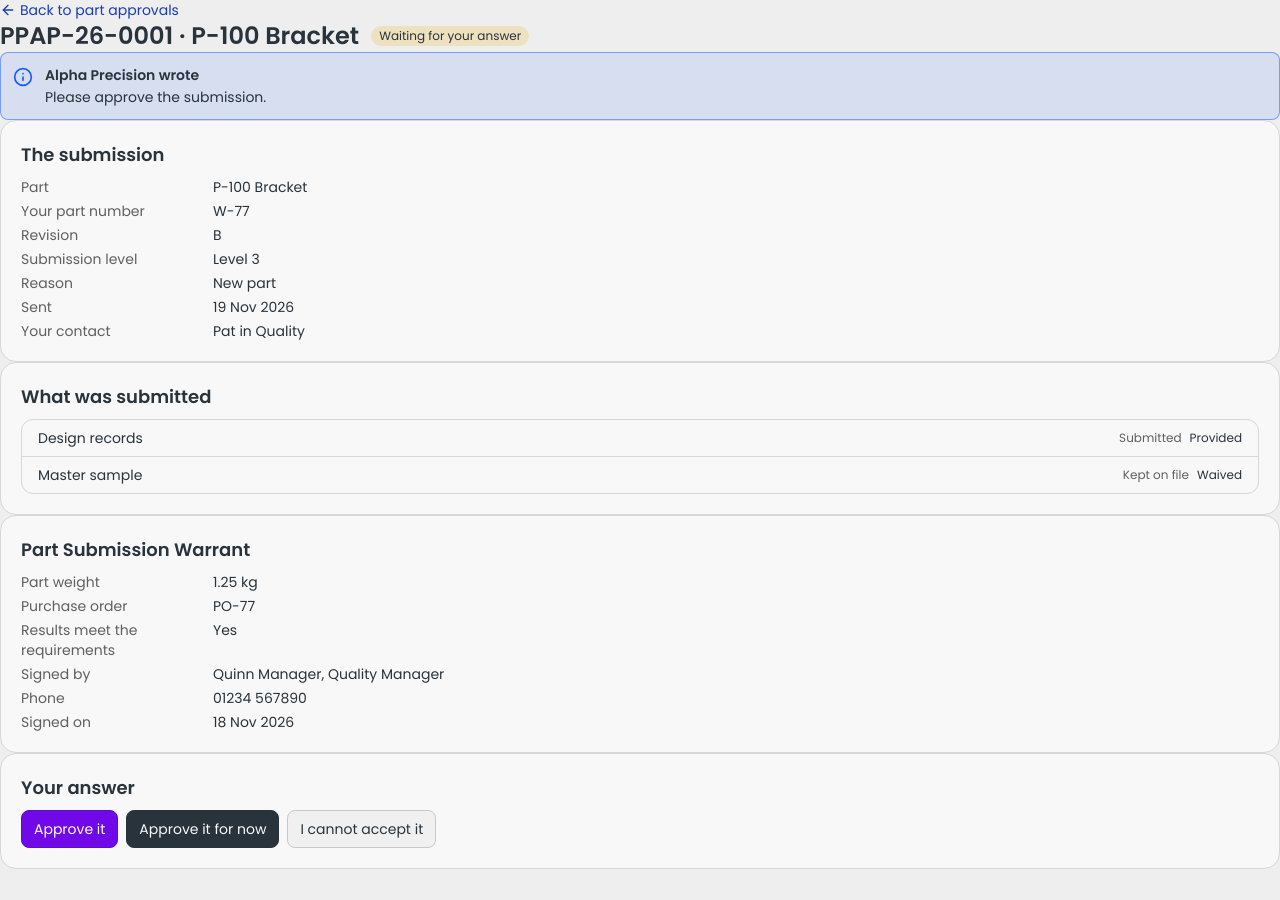
Test case: a customer answering a part approval submission in the portal › will not send a rejection without saying what cannot be accepted
The image size is (1280, 900).
Later steps or results of the test are not shown.
What coordinates should you click on to do the following:
click the button "I cannot accept it"
I would click on:
 (362, 829)
Its box is [287, 810, 436, 848].
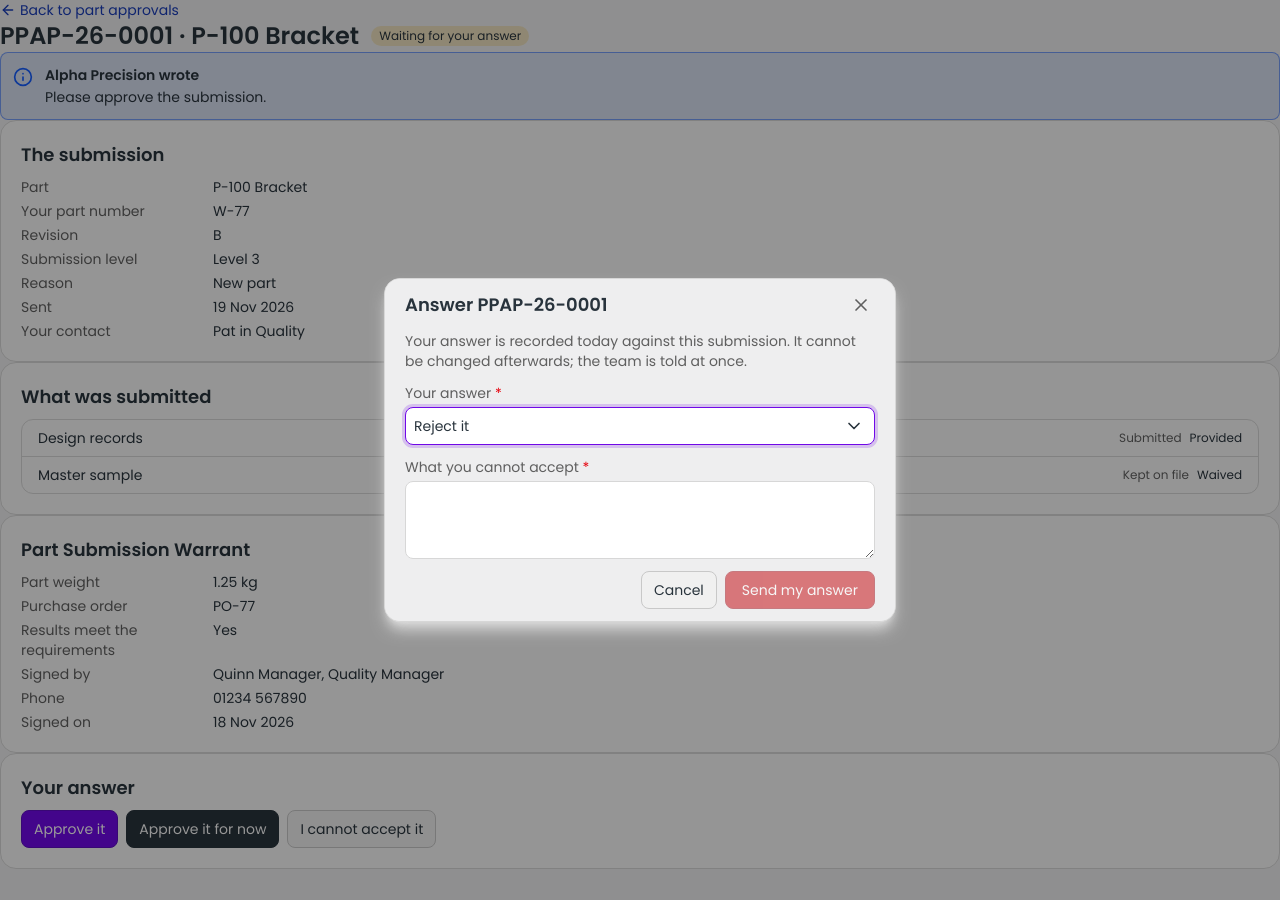
Now the button "Send my answer" is disabled, box [725, 571, 875, 609]
